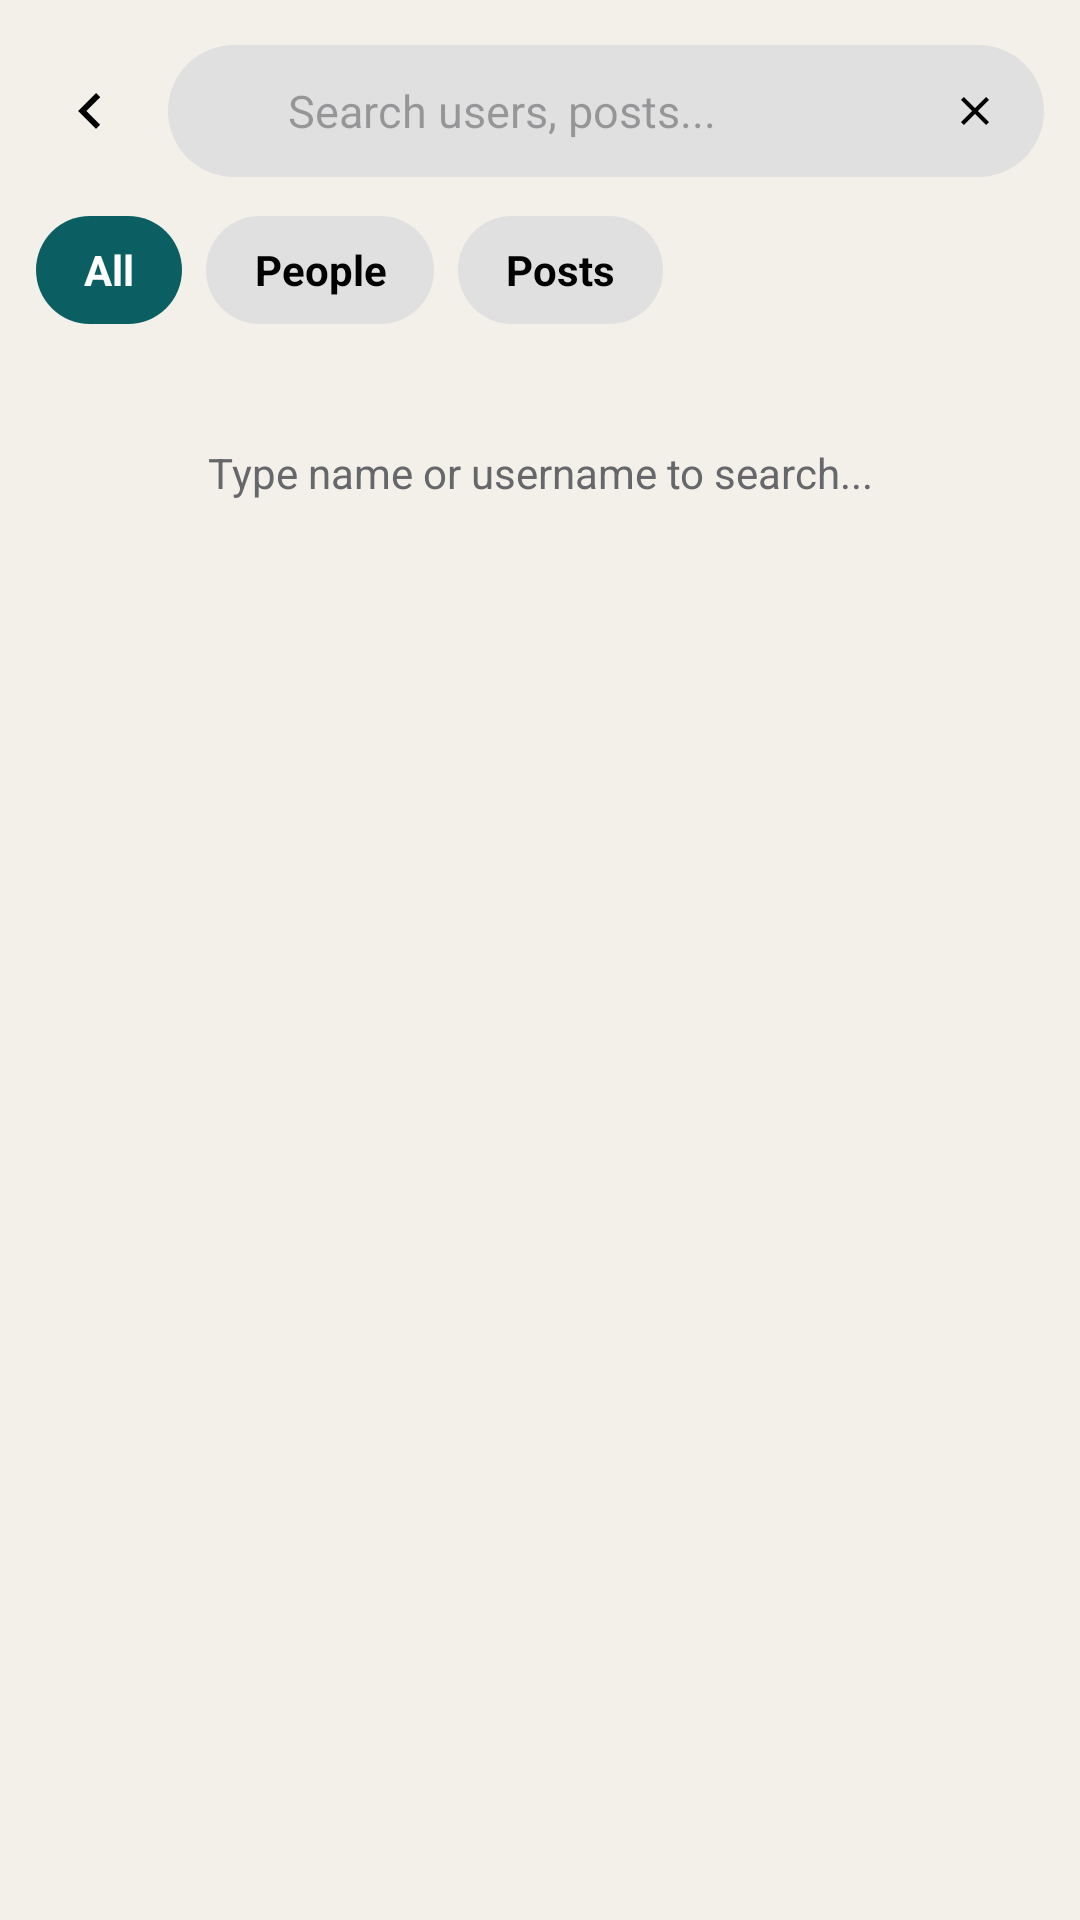

Screen size 1080 × 1920. Icon name, then its center in pixels as point (x, y):
Back: point (89, 111)
Clear: point (975, 111)
